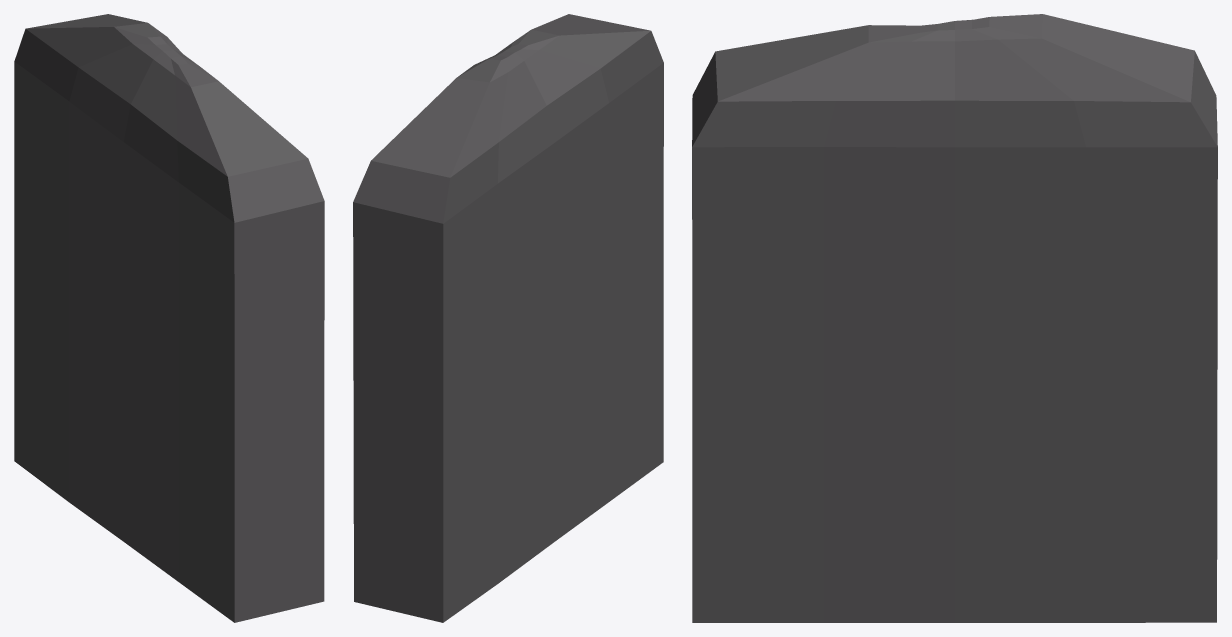
File: GraveStone1.fbx
3 views of the same model, side by side, from view 1: azimuth 30°, elevation 25°; view 2: azimuth 150°, elevation 25°; view 3: azimuth 270°, elevation 25° (orthographic). The views are drawn at different scales.
Visible parts, largest first — view 1: GraveStone1; view 2: GraveStone1; view 3: GraveStone1.
Part boxes in pixels (x1,y1,x2,y2): GraveStone1: (14, 14, 324, 622); GraveStone1: (353, 14, 663, 622); GraveStone1: (692, 14, 1217, 622).
Size of the model in its own units: 47.3 by 242 by 200.
